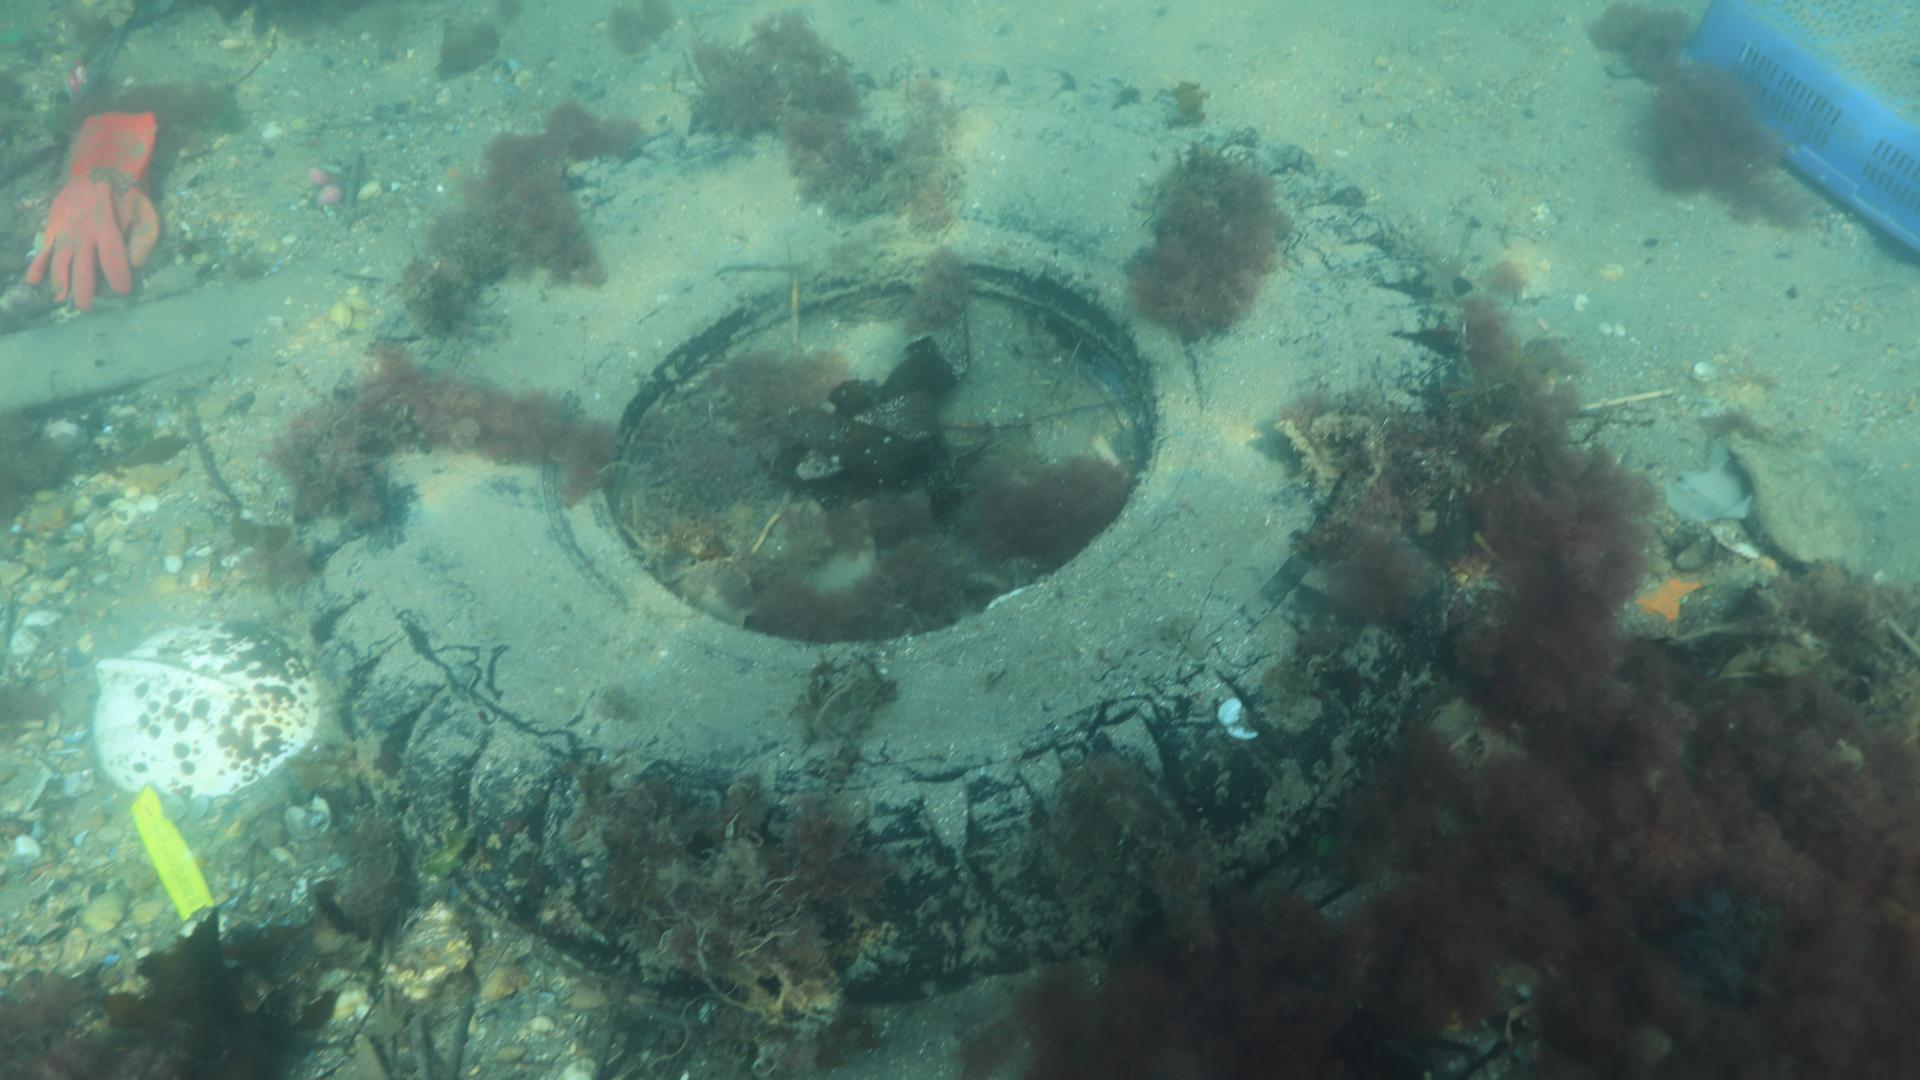tire: (298, 65, 1474, 1000)
